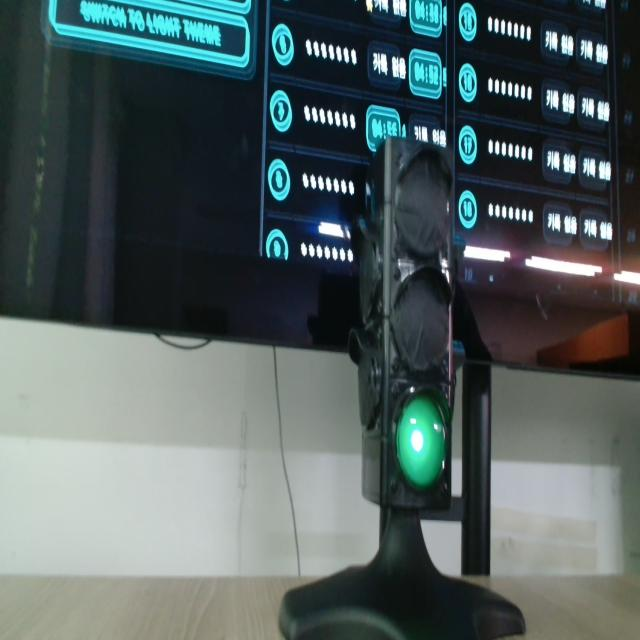green_light: (397, 396, 445, 490)
